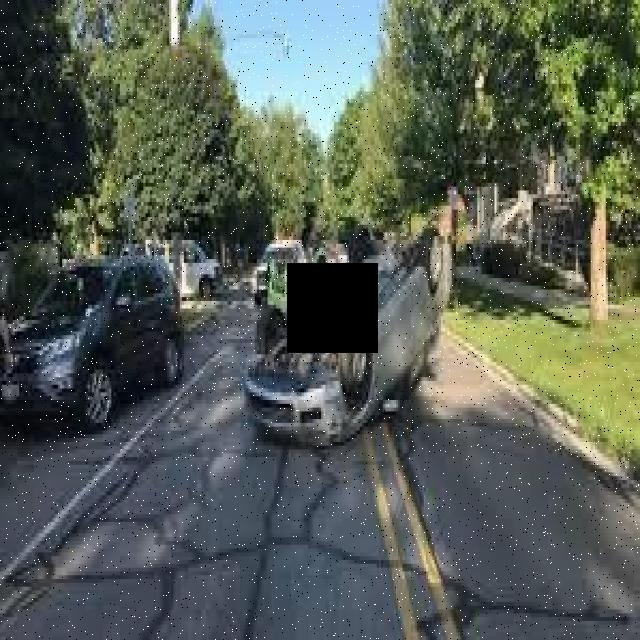accident: (242, 212, 454, 448)
